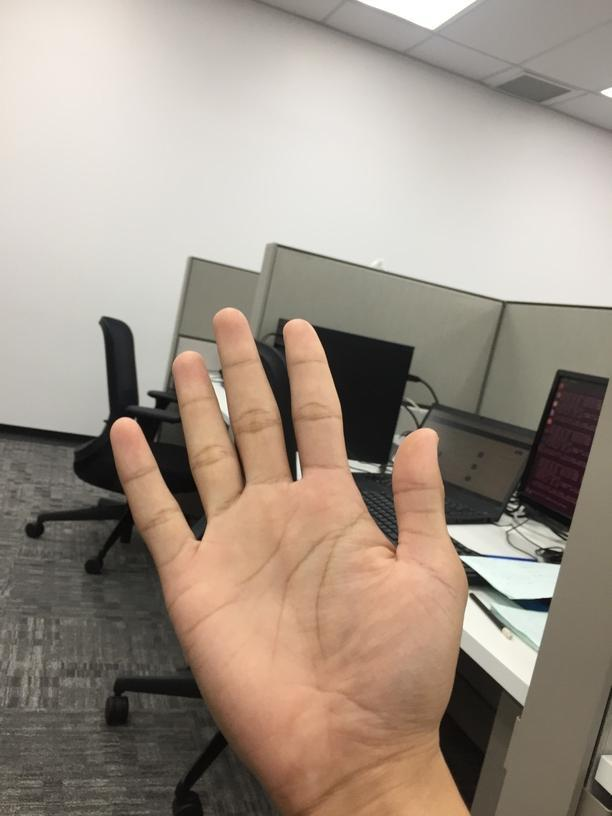hand: (113, 303, 469, 792)
